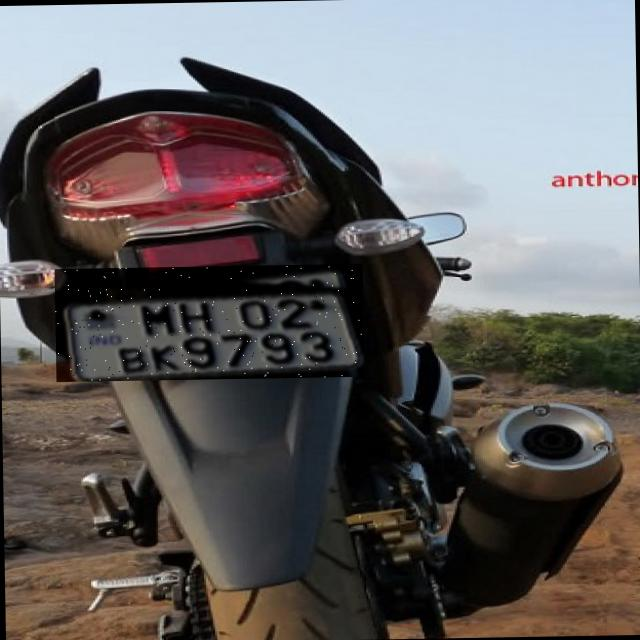Plate: (55, 265, 365, 383)
